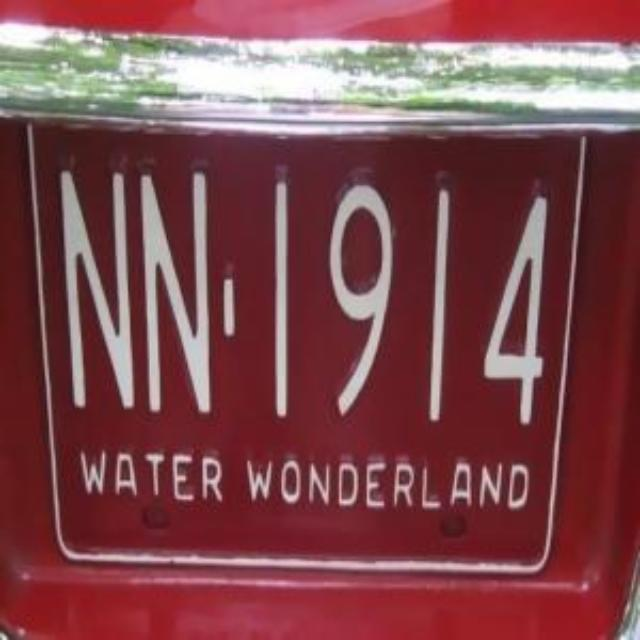License Plate: (15, 49, 603, 629)
